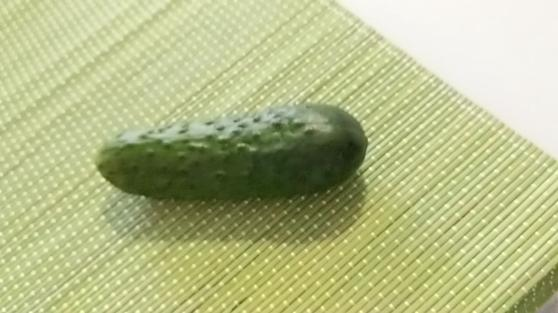cucumber: (99, 100, 371, 200)
